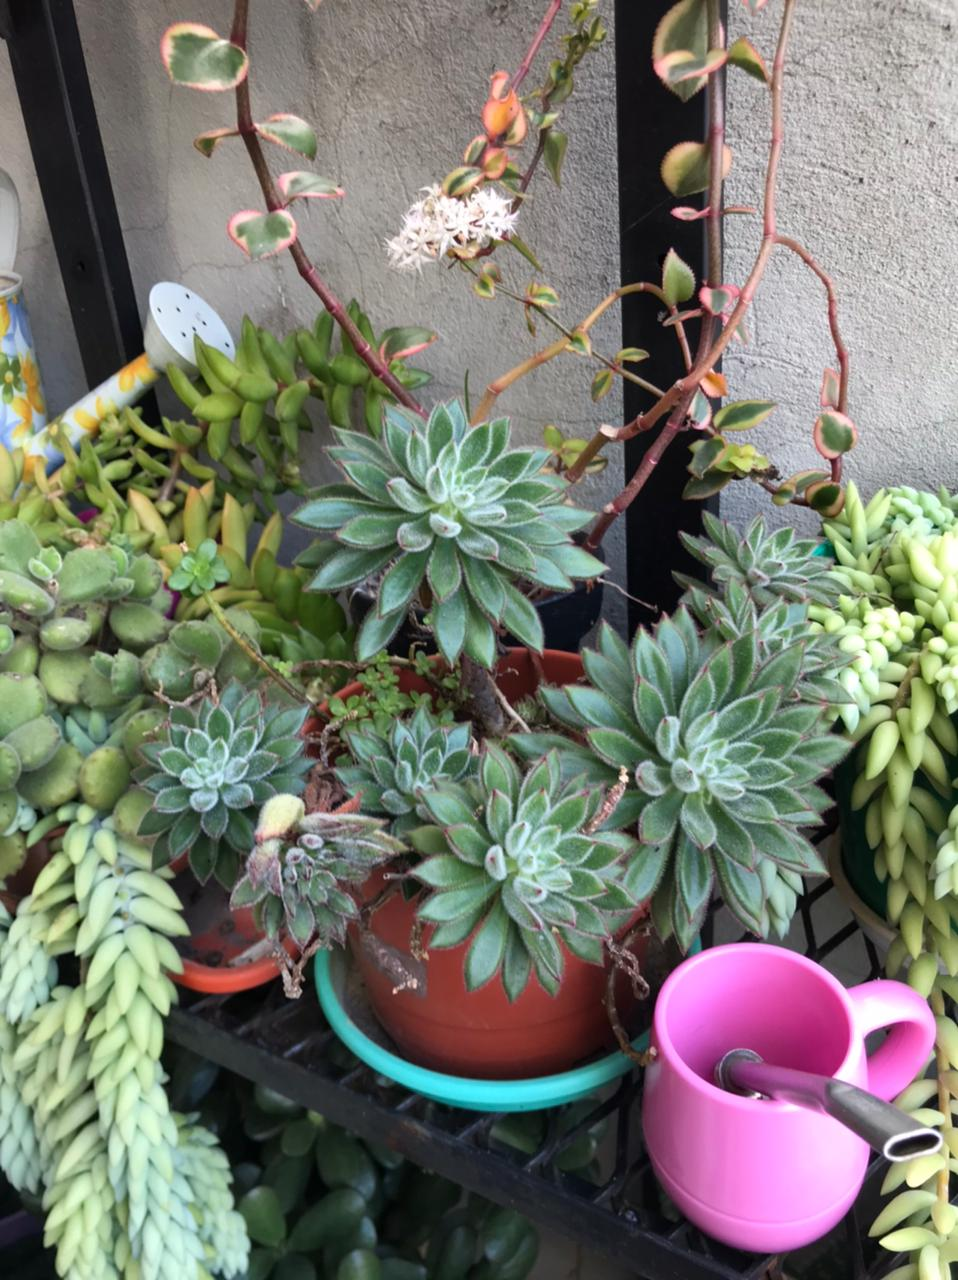mate: (602, 919, 952, 1260)
